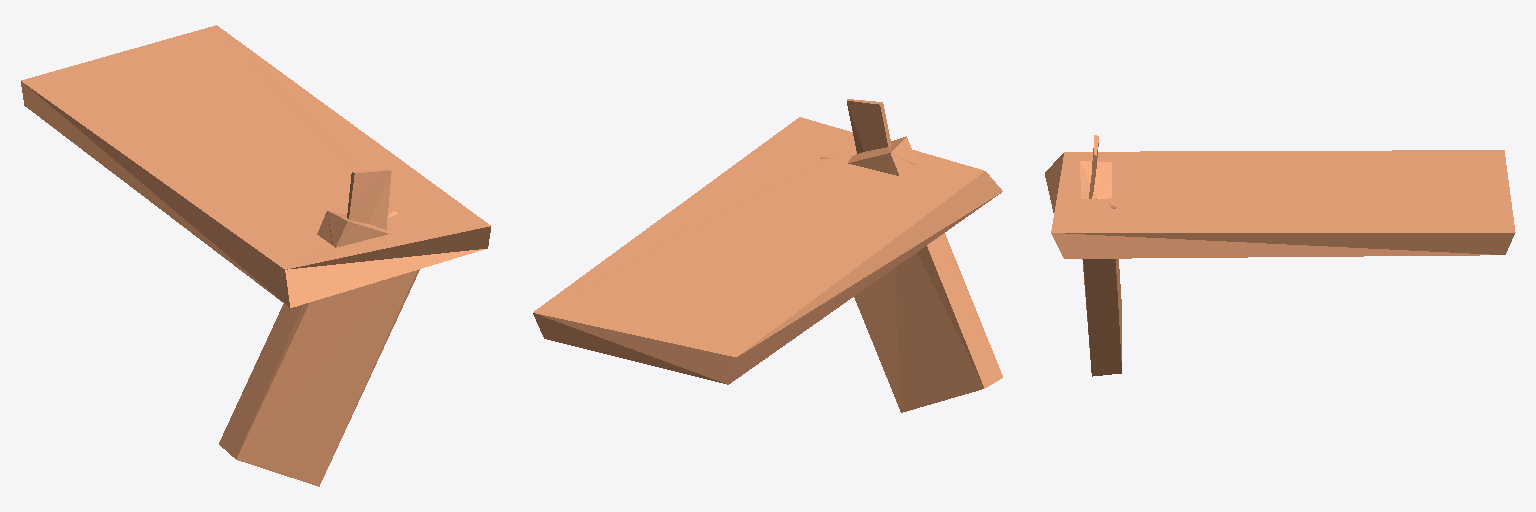
URDF robot description (blob138):

<robot name="blob138">
  <link name="random_obj_138">
    <contact>
      <lateral_friction value="1.0"/>
      <rolling_friction value="0.0"/>
      <inertia_scaling value="3.0"/>
      <contact_cfm value="0.0"/>
      <contact_erp value="1.0"/>
    </contact>
    <inertial>
      <origin rpy="0 0 0" xyz="0 0 0"/>
      <mass value="0.0966"/>
      <inertia ixx="1" ixy="0" ixz="0" iyy="1" iyz="0" izz="0"/>
    </inertial>
    <visual>
      <origin rpy="0 0 0" xyz="0 0 0"/>
      <geometry>
        <mesh filename="138.obj" scale="0.0076 0.0076 0.0076"/>
      </geometry>
      <material name="blockmat">
        <color rgba="0.99 0.70 0.52 1"/>
      </material>
    </visual>
    <collision>
      <origin rpy="0 0 0" xyz="0 0 0"/>
      <geometry>
        <mesh filename="138_coll.obj" scale="0.0076 0.0076 0.0076"/>
      </geometry>
    </collision>
  </link>
</robot>

--- Render facts (derived) ---
Views: 3 orthographic renders of the robot side by side, from view 1: azimuth 30°, elevation 25°; view 2: azimuth 150°, elevation 25°; view 3: azimuth 270°, elevation 25°.
Model blob138 with 1 links and 0 joints (none), rooted at random_obj_138, posed every joint at zero.
Links seen in each view (by area): view 1: random_obj_138; view 2: random_obj_138; view 3: random_obj_138.
Boxes of the visible links, box(x1,y1,x2,y2) form: random_obj_138: box(21, 25, 490, 486); random_obj_138: box(533, 99, 1002, 412); random_obj_138: box(1045, 135, 1515, 376).
Bounding box of the posed robot: 0.0463 × 0.0943 × 0.0567 m (x, y, z).
1 mesh visuals loaded from 1 distinct referenced files (1 OBJ).
